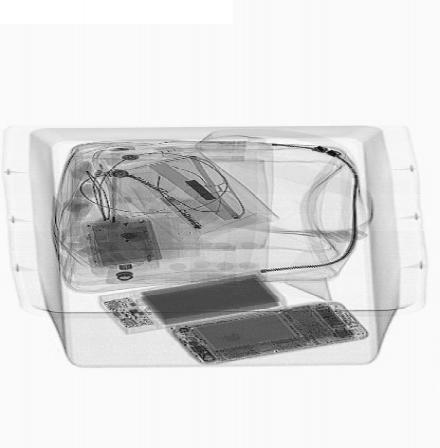Powerbank: (98, 274, 288, 335)
